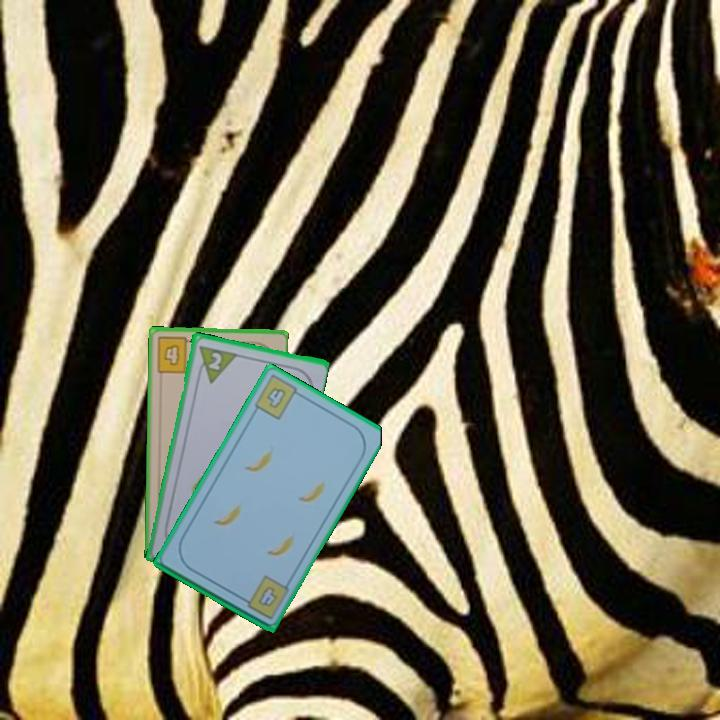2p: (204, 348, 225, 373)
4b: (250, 372, 305, 423), (153, 334, 197, 376), (254, 582, 280, 610)
